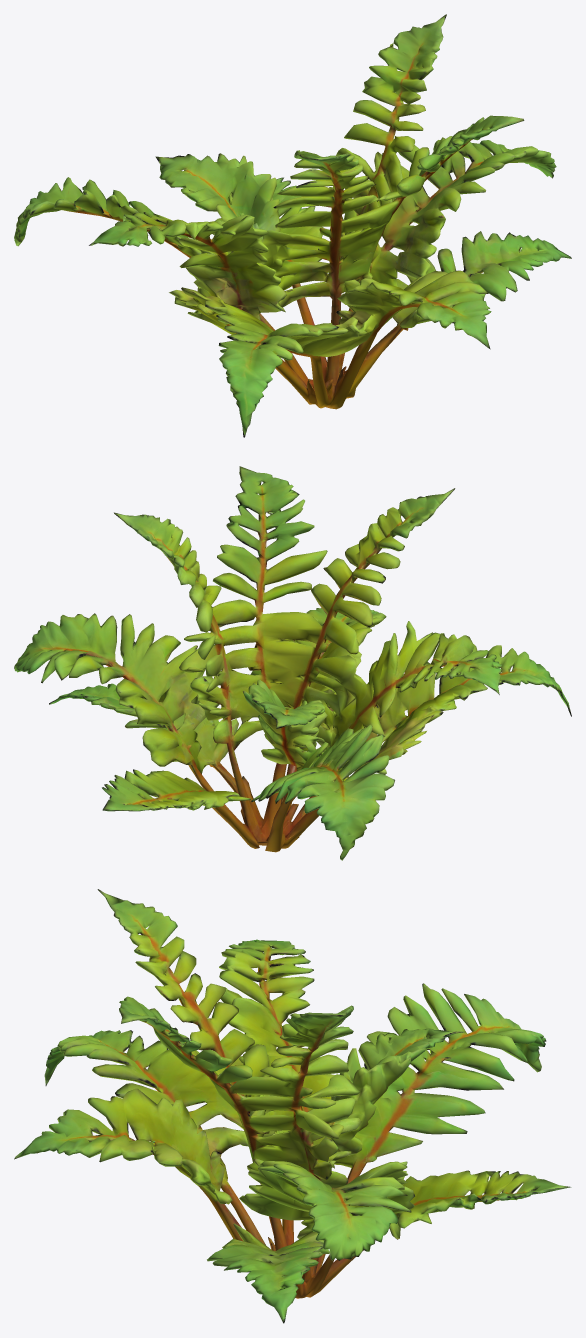
Rendered from fern_plant.glb.
3 views of the same model, one above another, from view 1: azimuth 30°, elevation 25°; view 2: azimuth 150°, elevation 25°; view 3: azimuth 270°, elevation 25° (orthographic). The views are drawn at different scales.
Bounding box in the file's own units: 2 × 1.32 × 1.9.
1 material, 1 textured.
